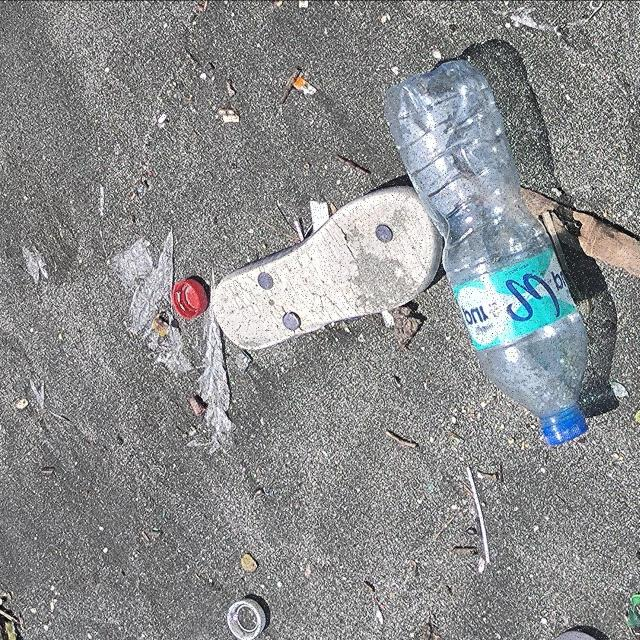plastic_waste: (382, 61, 590, 448), (227, 598, 268, 640), (172, 277, 209, 319)
rubber_waste: (213, 185, 444, 351)
